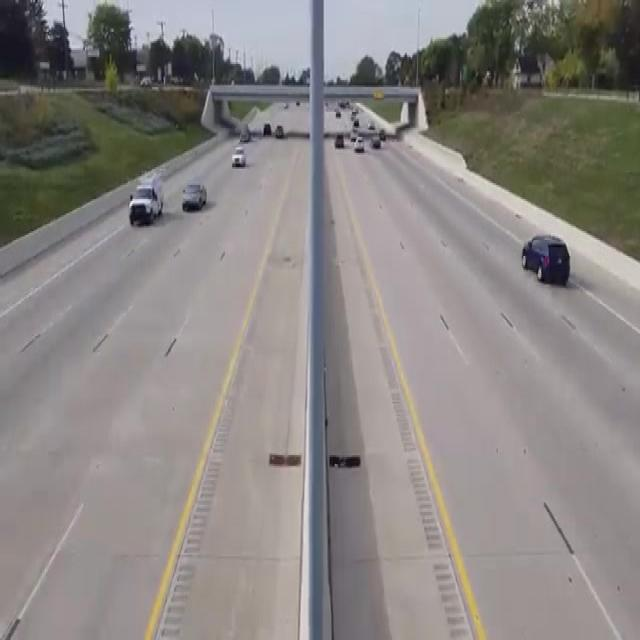car: (517, 230, 575, 299), (176, 172, 216, 228), (226, 146, 256, 173), (332, 124, 348, 152), (352, 130, 369, 156), (234, 119, 254, 138), (371, 138, 390, 155), (261, 116, 272, 144), (276, 122, 289, 144), (364, 120, 378, 128)
van: (121, 168, 170, 245)
